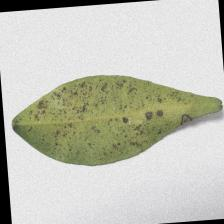canker: (28, 84, 191, 140)
